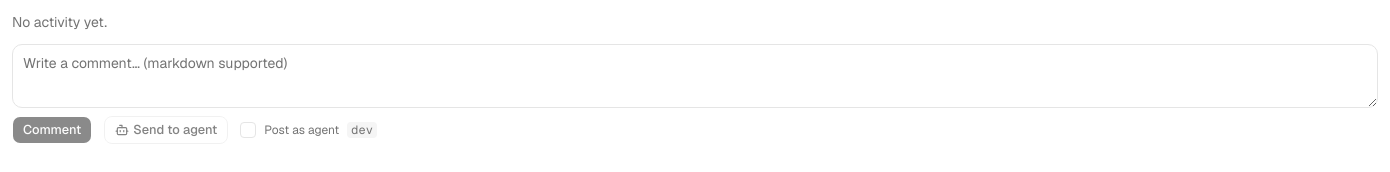
Scenario: Send to agent is disabled while the composer is blank and while posting as agent
Expected: the button "Send to agent" is disabled, [104,116,228,144]
Type "Plan this" into the text box labelled "Write a comment".
click(695, 76); type("Plan this")  # box [12,44,1378,108]
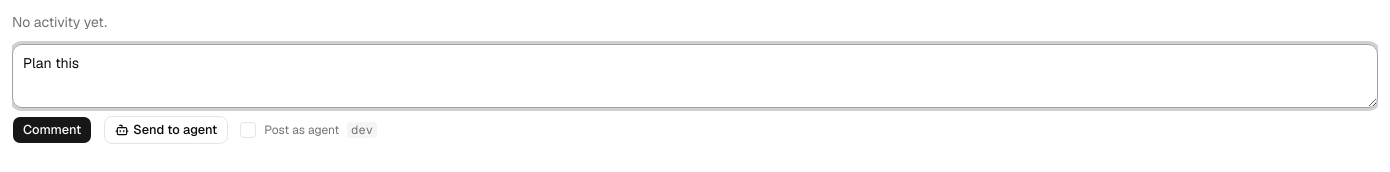
Result: the button "Send to agent" is enabled at [104,116,228,144]
Click the checkbox named "Post as agent".
click(248, 130)  # box [240,122,256,138]
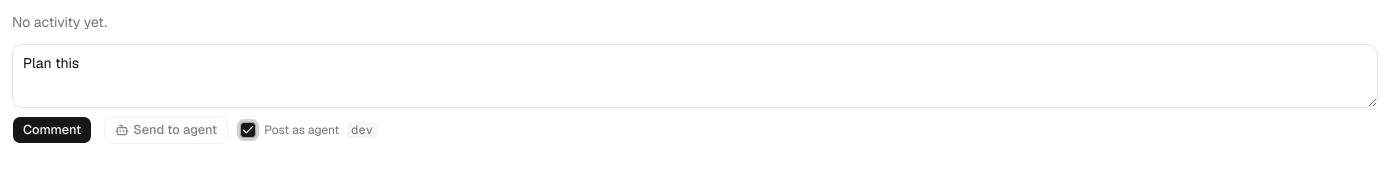
Result: the button "Comment" is enabled at [12,116,92,144]
Result: the button "Send to agent" is disabled at [104,116,228,144]
